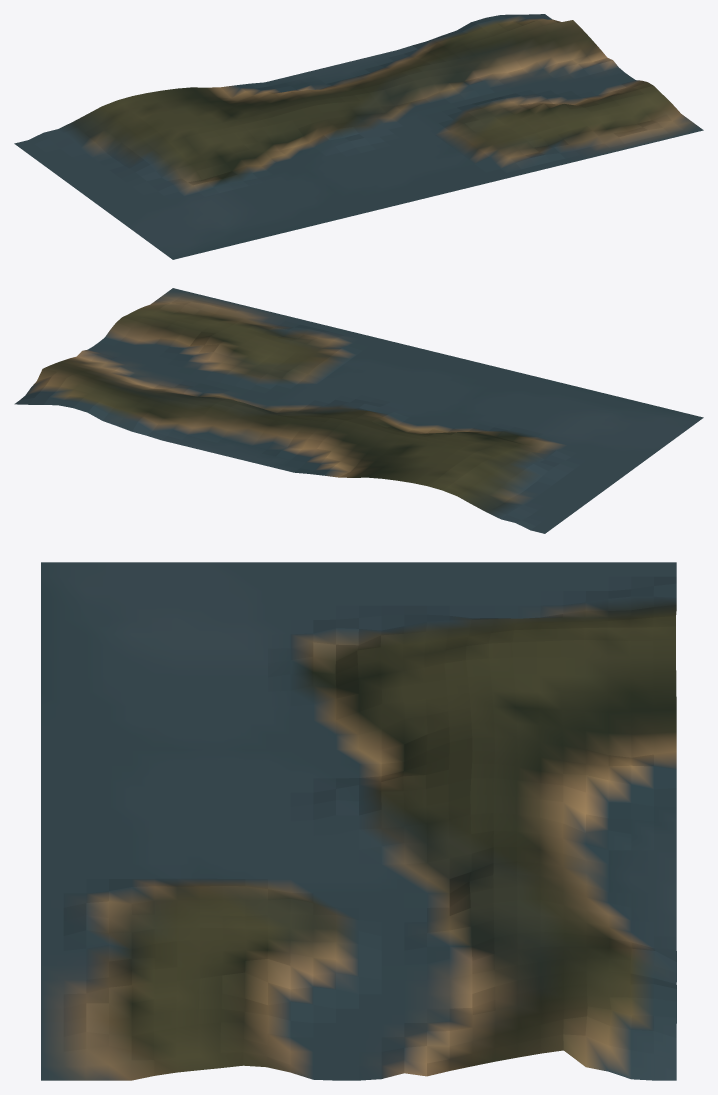
The model's file is MAPA FONDO 1.glb.
The picture shows the model from 3 angles, top to bottom: view 1: azimuth 30°, elevation 25°; view 2: azimuth 150°, elevation 25°; view 3: azimuth 270°, elevation 25°; orthographic projection. The views are drawn at different scales.
Visible parts, largest first — view 1: MAPA FONDO 3; view 2: MAPA FONDO 3; view 3: MAPA FONDO 3.
Boxes of the visible parts, x1,y1,x2,y2 form: MAPA FONDO 3: (14,14,703,259); MAPA FONDO 3: (14,288,703,533); MAPA FONDO 3: (41,562,676,1080).
Size of the model in its own units: 66.71 by 2.26 by 34.58.
